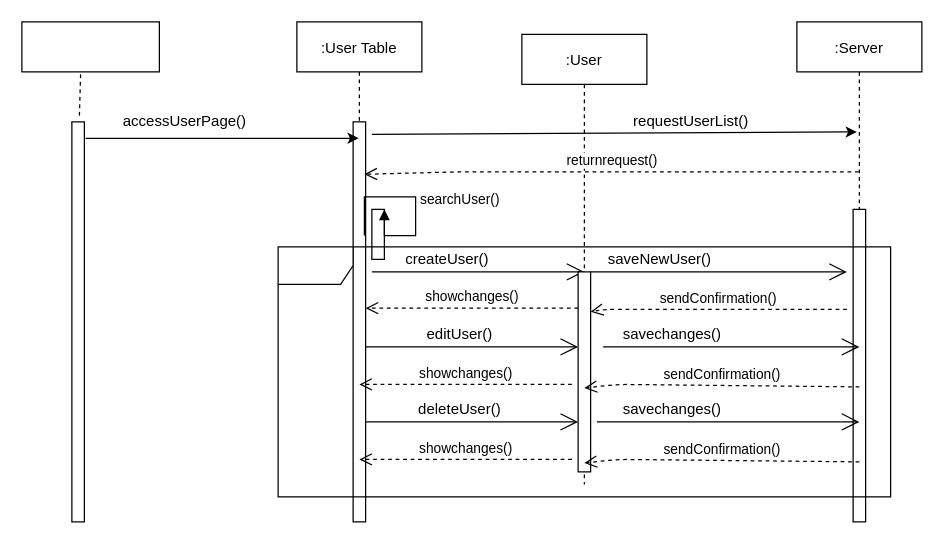
Some shapes in this 944 by 544 pixel diagram are drawn without their labels. Here are the shapes that lost their labels. From the top down, the box of each, then its label:
(21, 21, 159, 72): :Admin Page
(277, 246, 891, 497): alt
